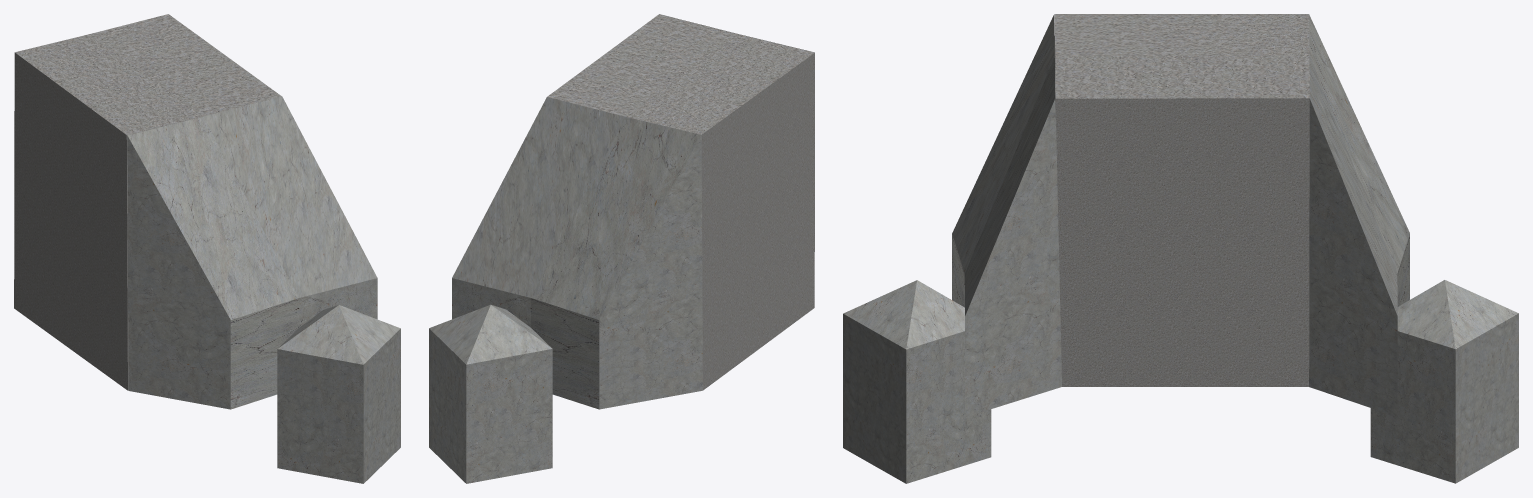
File: ForGuns.fbx
The picture shows the model from 3 angles, left to right: view 1: azimuth 30°, elevation 25°; view 2: azimuth 150°, elevation 25°; view 3: azimuth 270°, elevation 25°; orthographic projection. The views are drawn at different scales.
Parts seen in each view (by area): view 1: Cube; view 2: Cube; view 3: Cube.
Part boxes in pixels (x1,y1,x2,y2): Cube: (14,14,400,483); Cube: (429,14,814,483); Cube: (843,14,1518,483).
Bounding box in the file's own units: 2600 × 3710 × 6379.
